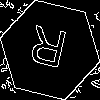R: (25, 25, 69, 78)
